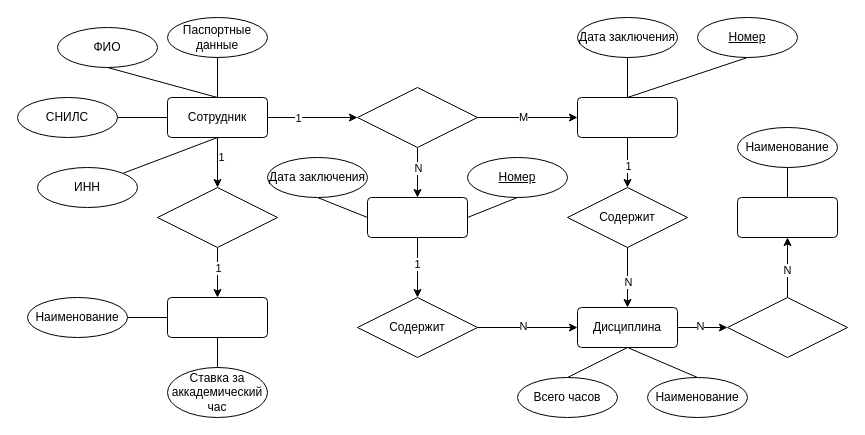
Some shapes in this 865 by 435 pixel diagram are drawn without their labels. The shapes that lost their labels are listed below. From the top down, each one's centre as x and y in pixels, then its label:
At (x=417, y=117): "Заключает".
At (x=627, y=117): "ГПД".
At (x=217, y=217): "Имеет".
At (x=417, y=217): "Акт сдачи-приёмки".
At (x=787, y=217): "Группа".
At (x=217, y=317): "Научное звание".
At (x=787, y=327): "Преподаётся".
